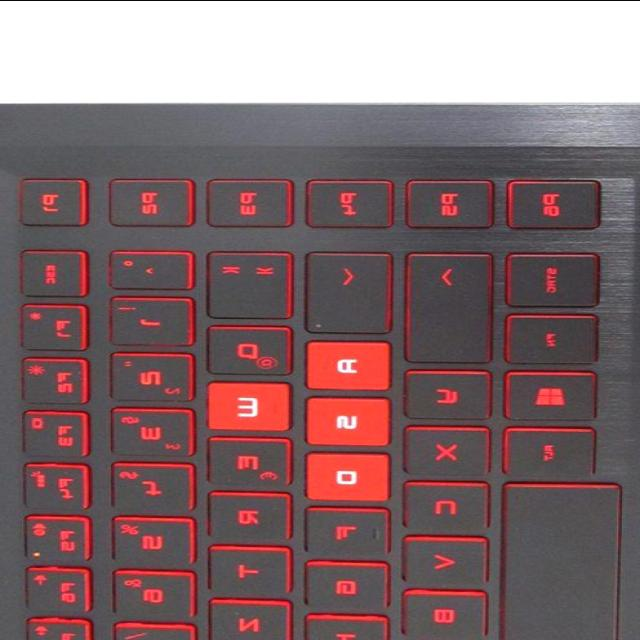1: (104, 295, 190, 345)
2: (103, 350, 192, 402)
3: (105, 405, 194, 457)
4: (106, 461, 191, 511)
5: (106, 514, 191, 566)
6: (106, 568, 192, 618)
a: (298, 337, 390, 389)
alt-left: (497, 425, 594, 477)
b: (395, 588, 484, 640)
c: (397, 479, 487, 531)
caret: (102, 248, 190, 288)
d: (298, 449, 388, 501)
e: (200, 435, 289, 487)
f: (297, 505, 387, 555)
g: (297, 559, 387, 609)
h: (299, 613, 385, 640)
keyboard: (0, 166, 640, 640)
q: (199, 322, 289, 374)
r: (200, 490, 288, 542)
s: (300, 394, 389, 446)
shift-left: (396, 249, 489, 363)
shift-lock: (301, 250, 393, 334)
space: (491, 478, 619, 640)
strg-left: (500, 250, 598, 306)
t: (201, 544, 285, 593)
tab: (199, 248, 288, 318)
v: (396, 534, 484, 586)
w: (199, 379, 289, 431)
x: (397, 423, 487, 475)
y: (400, 368, 490, 420)
z: (202, 598, 287, 640)
